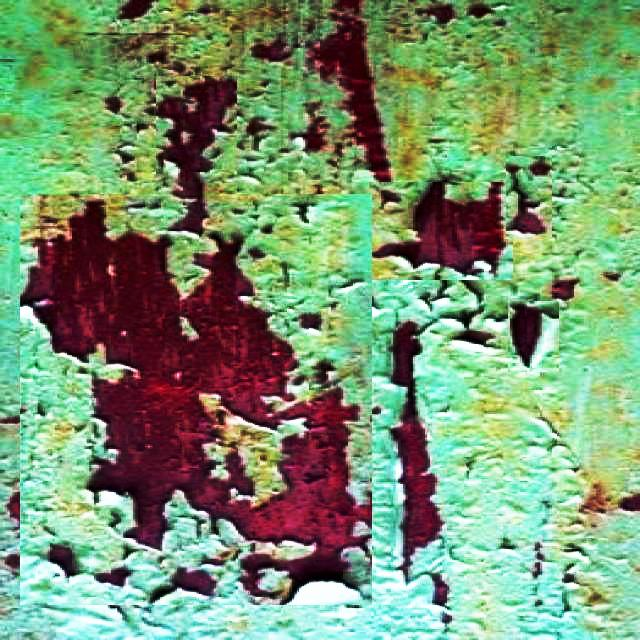Corrosion: (23, 204, 372, 604), (310, 0, 390, 181), (393, 322, 443, 581), (156, 78, 237, 234), (374, 182, 505, 275), (512, 305, 560, 368), (393, 322, 420, 386), (509, 198, 547, 235), (174, 570, 216, 597), (294, 116, 328, 149), (252, 38, 289, 60), (49, 546, 72, 577), (418, 4, 455, 23), (95, 570, 129, 588), (120, 0, 152, 16), (554, 280, 578, 301), (623, 496, 640, 512)
